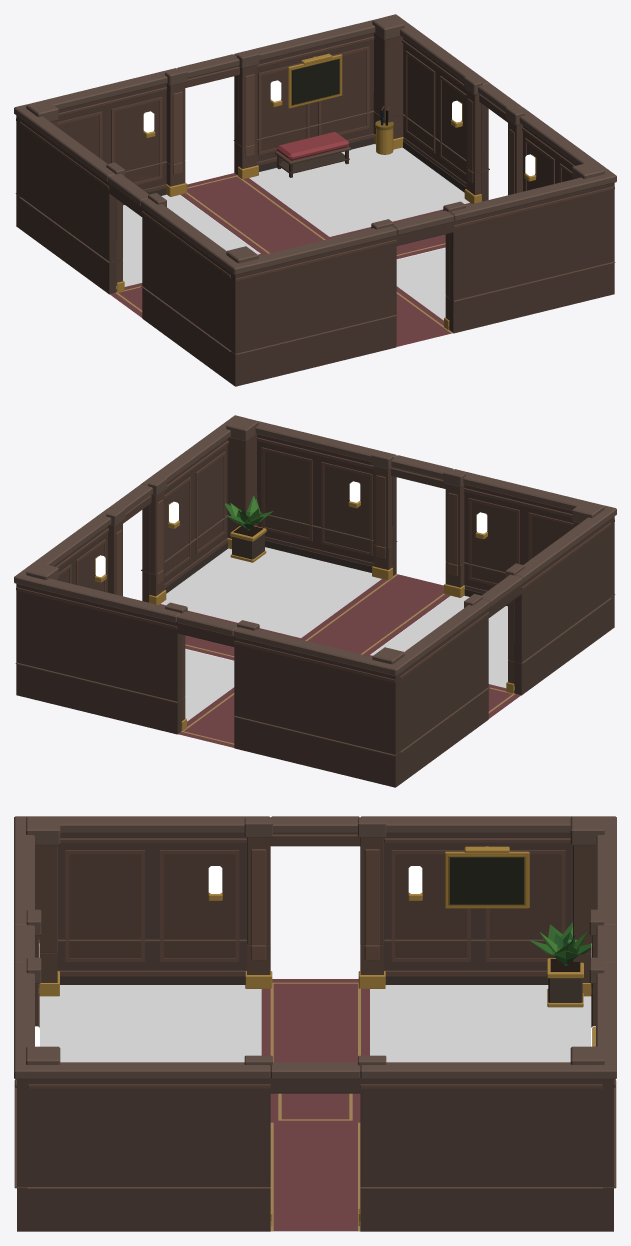
Rendered from grandCorridor.glb.
3 views of the same model, one above another, from view 1: azimuth 30°, elevation 25°; view 2: azimuth 150°, elevation 25°; view 3: azimuth 270°, elevation 25° (orthographic). The views are drawn at different scales.
Parts seen in each view (by area): view 1: static, floor, W_south_0_up, W_south_1_up, W_north_1_up, W_north_0_up, W_west_0_up, W_west_1_up, W_east_0_up, W_east_1_up; view 2: static, floor, W_north_0_up, W_north_1_up, W_south_1_up, W_south_0_up, W_west_0_up, W_west_1_up, W_east_1_up, W_east_0_up; view 3: floor, static, W_east_0_up, W_east_1_up, W_west_0_up, W_west_1_up, W_south_0_up, W_north_0_up, W_north_1_up, W_south_1_up.
Part boxes in pixels (x1,y1,x2,y2): static: (15,92,615,386); floor: (110,144,471,346); W_south_0_up: (226,210,453,353); W_south_1_up: (443,162,616,300); W_north_1_up: (234,15,404,146); W_north_0_up: (14,54,239,196); W_west_0_up: (14,104,148,262); W_west_1_up: (141,193,246,350); W_east_0_up: (385,14,522,173); W_east_1_up: (505,105,616,195); static: (15,493,615,787); floor: (159,547,520,747); W_north_0_up: (177,611,404,754); W_north_1_up: (14,563,187,701); W_south_1_up: (226,416,396,547); W_south_0_up: (391,455,616,597); W_west_0_up: (384,574,522,751); W_west_1_up: (505,505,616,662); W_east_1_up: (141,415,245,574); W_east_0_up: (14,484,152,596); floor: (39,979,591,1231); static: (14,922,616,1231); W_east_0_up: (270,1055,616,1186); W_east_1_up: (14,1055,272,1186); W_west_0_up: (270,816,616,945); W_west_1_up: (14,816,272,945); W_south_0_up: (14,816,60,987); W_north_0_up: (570,816,616,987); W_north_1_up: (570,957,616,1186); W_south_1_up: (14,957,60,1186).
Bounding box in the file's own units: 8.08 × 2.48 × 8.08.
